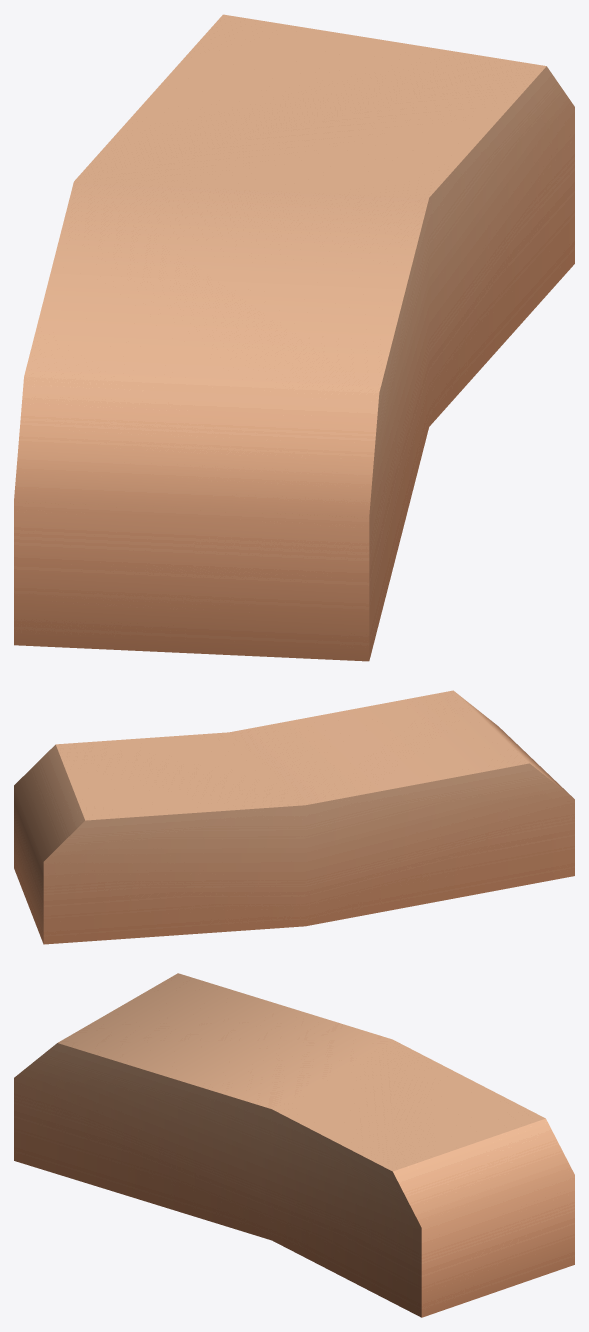
File: arm-right.001_lev2.glb
3 views of the same model, one above another, from view 1: azimuth 30°, elevation 25°; view 2: azimuth 150°, elevation 25°; view 3: azimuth 270°, elevation 25° (orthographic). The views are drawn at different scales.
Parts seen in each view (by area): view 1: arm-right.001_lev2; view 2: arm-right.001_lev2; view 3: arm-right.001_lev2.
Part boxes in pixels (bbox=[...]): arm-right.001_lev2: bbox=[14, 14, 574, 661]; arm-right.001_lev2: bbox=[14, 690, 574, 944]; arm-right.001_lev2: bbox=[14, 973, 574, 1317].
Size of the model in its own units: 1.07 by 0.2885 by 1.12.
Materials: 1 (1 with a texture image).
